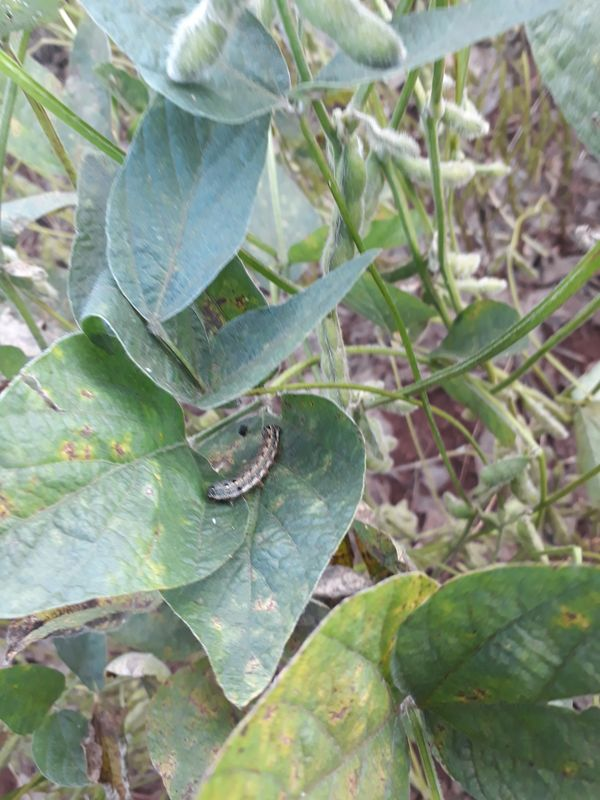Spodoptera_albula: (201, 417, 288, 505)
